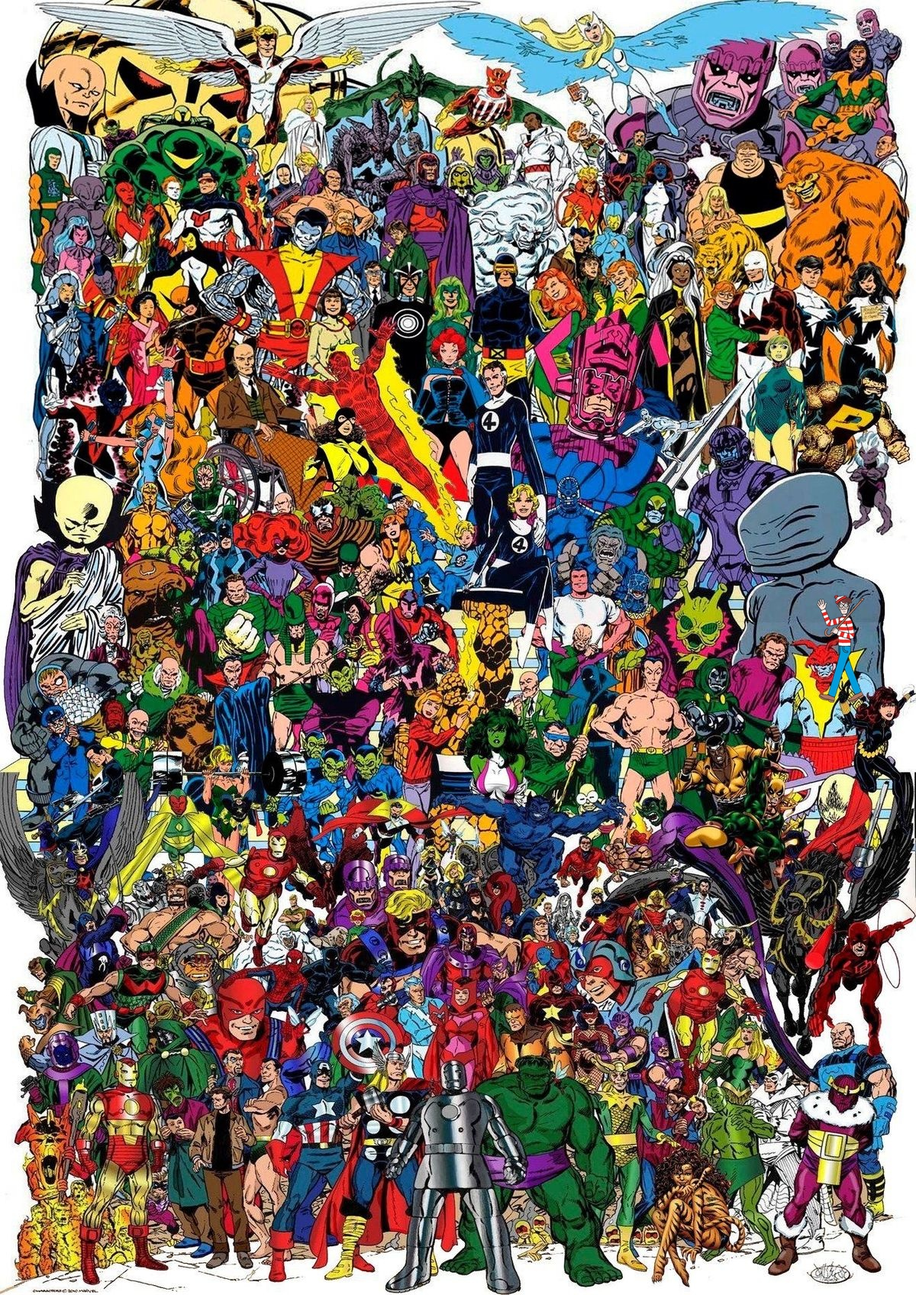waldo: (817, 595, 864, 702)
